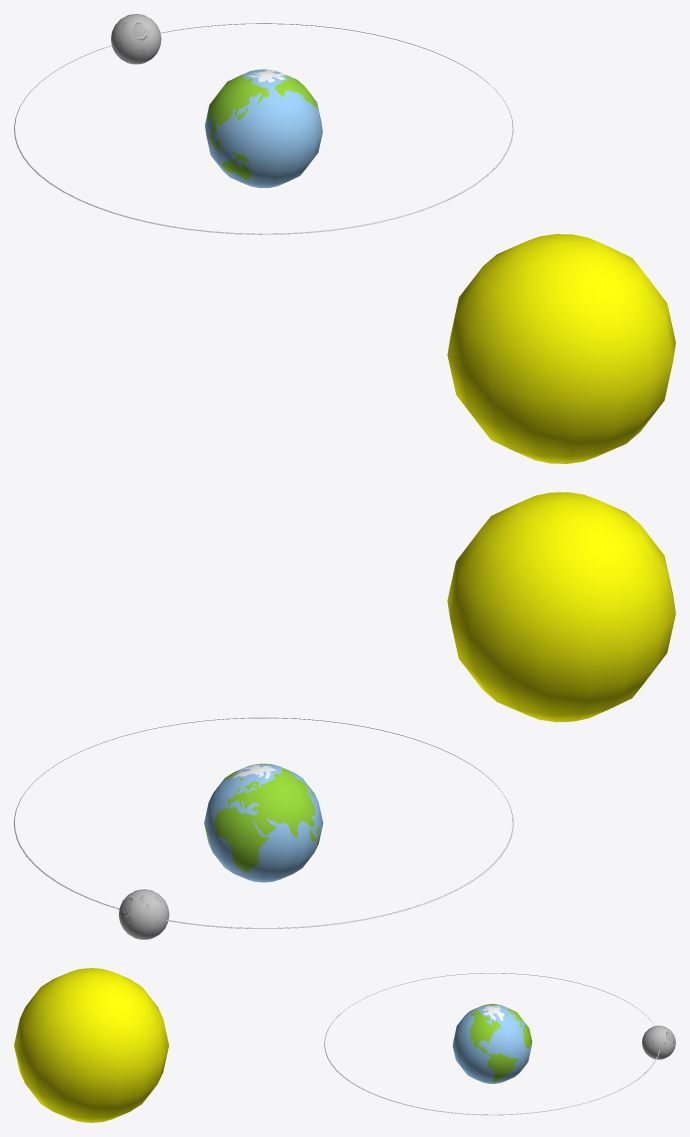
File: eclipse_001.fbx.fbx
3 renders of one model, top to bottom at view 1: azimuth 30°, elevation 25°; view 2: azimuth 150°, elevation 25°; view 3: azimuth 270°, elevation 25°, orthographic. The views are drawn at different scales.
Parts seen in each view (by area): view 1: sol, tierra, luna A, trayectoria; view 2: sol, tierra, luna A, trayectoria; view 3: sol, tierra, luna A, trayectoria.
Part boxes in pixels (box(x1,y1,x2,y2)): sol: box(447, 234, 675, 463); tierra: box(205, 69, 322, 188); luna A: box(111, 14, 161, 64); trayectoria: box(14, 23, 513, 234); sol: box(447, 492, 675, 722); tierra: box(204, 763, 323, 882); luna A: box(118, 889, 169, 939); trayectoria: box(14, 717, 513, 928); sol: box(14, 968, 168, 1122); tierra: box(452, 1004, 532, 1083); luna A: box(642, 1025, 675, 1059); trayectoria: box(324, 973, 659, 1115).
Bounding box in the file's own units: 839 × 387 × 1651.
Materials: 6 (2 with a texture image).
